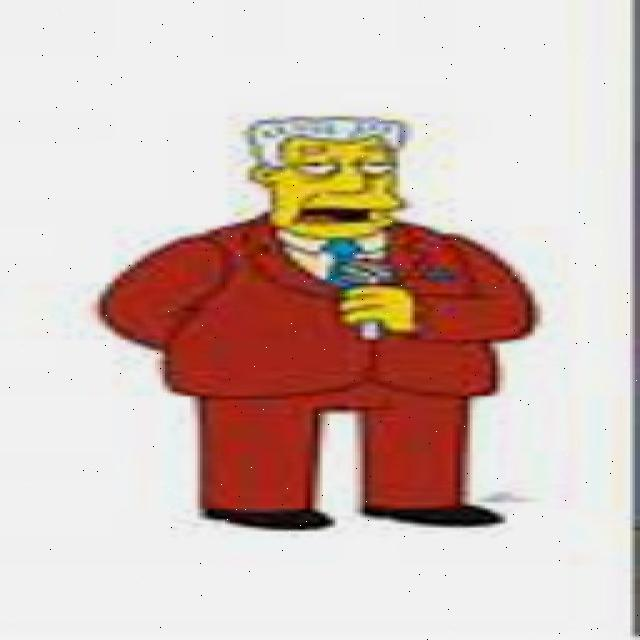Kent Brockman: (241, 114, 419, 244)
